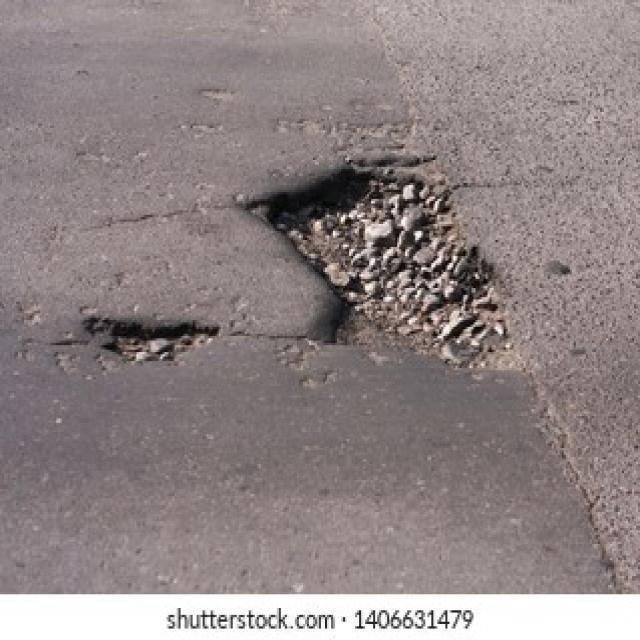pothole: (239, 151, 528, 372), (80, 313, 219, 364)
